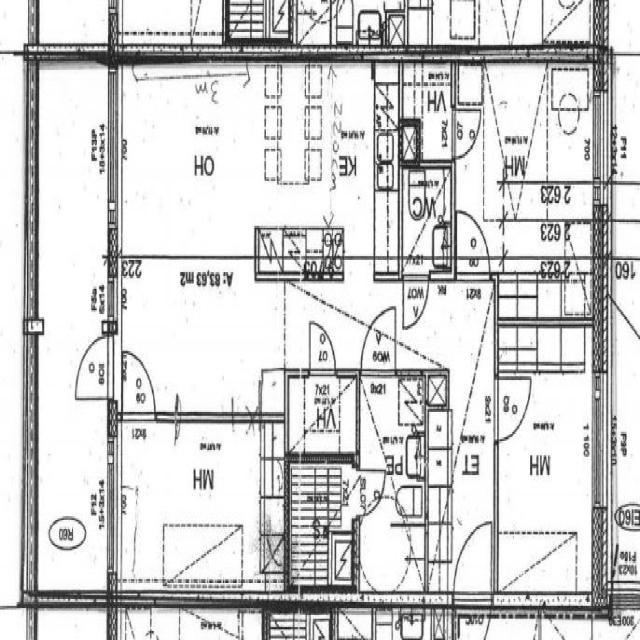door: (451, 512, 496, 614), (70, 329, 118, 404), (118, 344, 161, 420), (358, 304, 398, 377), (494, 373, 533, 443), (302, 312, 342, 377), (454, 206, 492, 271), (400, 263, 431, 335), (450, 101, 484, 162), (359, 466, 386, 518), (610, 592, 640, 638)
window: (588, 347, 612, 518), (103, 67, 127, 233), (104, 424, 118, 587), (123, 588, 192, 621), (592, 80, 612, 184), (173, 402, 235, 426)
zone: (114, 62, 338, 267), (452, 53, 607, 262), (494, 314, 602, 606), (115, 413, 284, 594), (259, 57, 396, 276), (34, 59, 114, 338), (608, 226, 640, 566), (286, 454, 356, 586), (359, 366, 428, 499), (354, 489, 429, 598), (286, 368, 358, 457), (399, 54, 455, 164), (400, 160, 454, 272), (71, 328, 117, 402), (118, 347, 161, 418)
